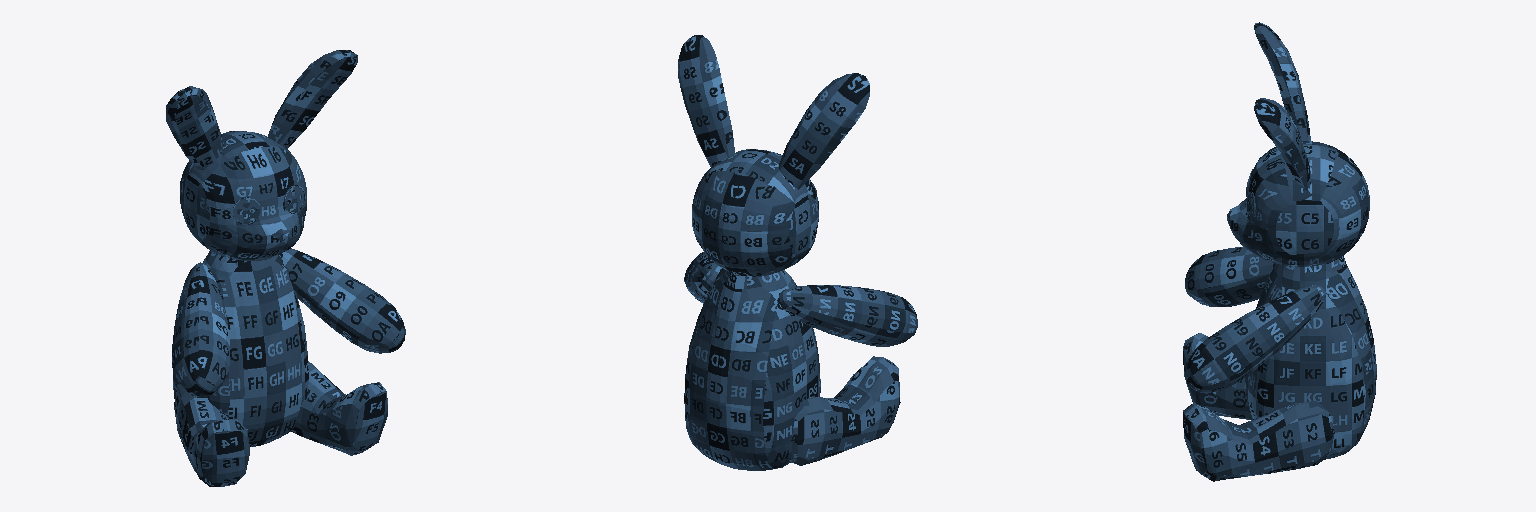
The picture shows the model from 3 angles: view 1: azimuth 30°, elevation 25°; view 2: azimuth 150°, elevation 25°; view 3: azimuth 270°, elevation 25°; orthographic projection.
Parts seen in each view (by area): view 1: Rabbit Torso, Head Rabbit, Rabbit Arm_L Left, Rabbit Arm_R Right, Rabbit Left Leg_L, Rabbit Right Leg_R, Rabbit Left Ear_L, Rabbit Right Ear_R; view 2: Rabbit Torso, Head Rabbit, Rabbit Right Leg_R, Rabbit Arm_R Right, Rabbit Right Ear_R, Rabbit Left Ear_L, Rabbit Arm_L Left; view 3: Rabbit Torso, Head Rabbit, Rabbit Left Leg_L, Rabbit Arm_L Left, Rabbit Arm_R Right, Rabbit Right Ear_R, Rabbit Left Ear_L, Rabbit Right Leg_R.
Boxes of the visible parts, <box> form: Rabbit Torso: <box>172,251,308,446</box>; Head Rabbit: <box>180,131,306,260</box>; Rabbit Arm_L Left: <box>279,248,405,353</box>; Rabbit Arm_R Right: <box>172,262,230,397</box>; Rabbit Left Leg_L: <box>290,361,387,455</box>; Rabbit Right Leg_R: <box>174,384,249,486</box>; Rabbit Left Ear_L: <box>267,50,357,148</box>; Rabbit Right Ear_R: <box>166,86,222,169</box>; Rabbit Torso: <box>684,268,820,470</box>; Head Rabbit: <box>692,149,818,276</box>; Rabbit Right Leg_R: <box>789,356,900,465</box>; Rabbit Arm_R Right: <box>778,285,917,346</box>; Rabbit Right Ear_R: <box>779,73,869,189</box>; Rabbit Left Ear_L: <box>678,35,734,166</box>; Rabbit Arm_L Left: <box>684,252,721,303</box>; Rabbit Torso: <box>1245,255,1376,459</box>; Head Rabbit: <box>1227,141,1369,266</box>; Rabbit Left Leg_L: <box>1183,401,1334,481</box>; Rabbit Arm_L Left: <box>1185,285,1325,392</box>; Rabbit Arm_R Right: <box>1185,247,1275,306</box>; Rabbit Right Ear_R: <box>1254,22,1310,140</box>; Rabbit Left Ear_L: <box>1254,98,1310,190</box>; Rabbit Right Leg_R: <box>1183,333,1251,419</box>.
Bounding box in the file's own units: 4.49 × 7.47 × 3.4.
Materials: 1 (1 with a texture image).